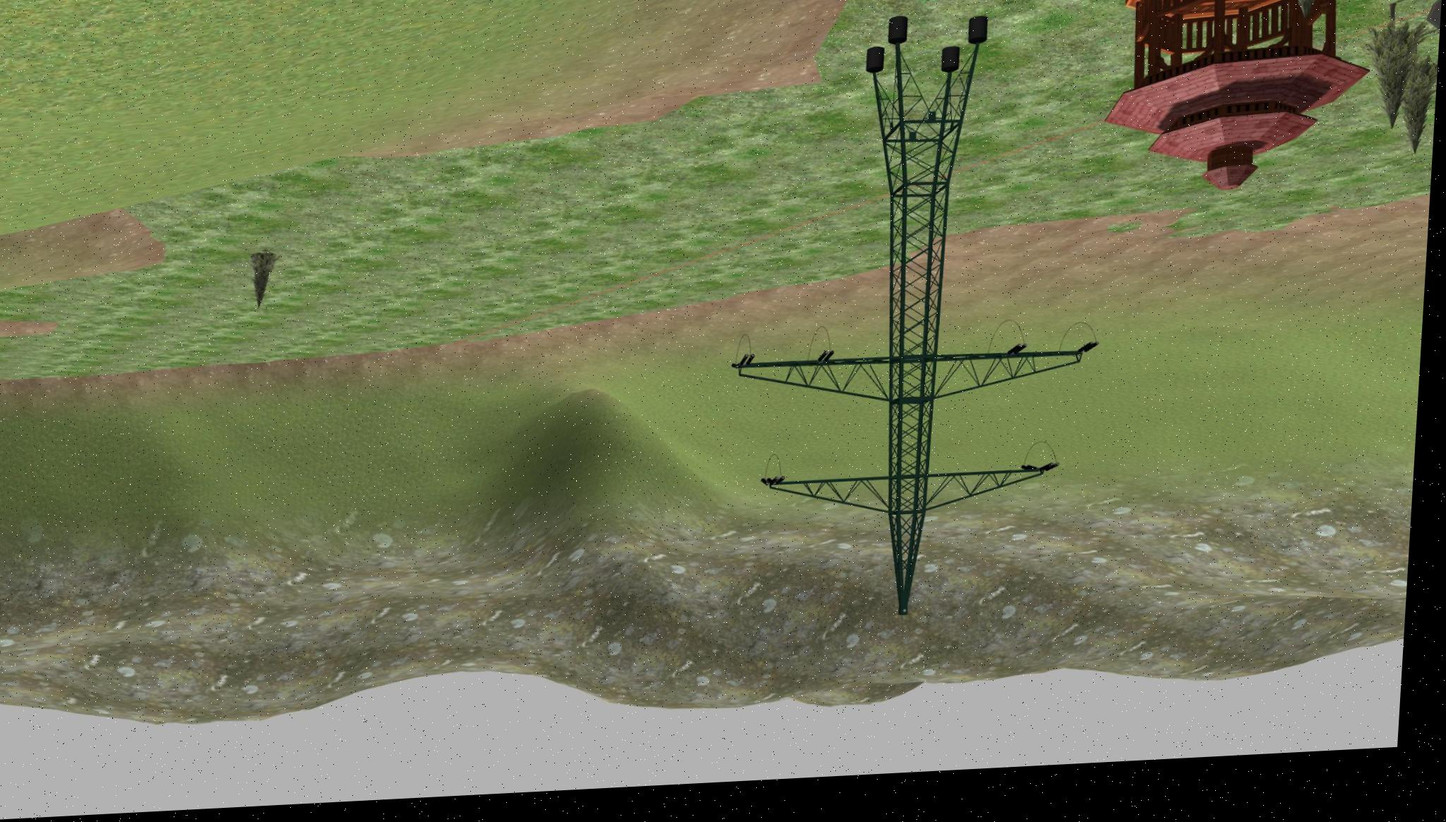tower: (719, 9, 1113, 625)
